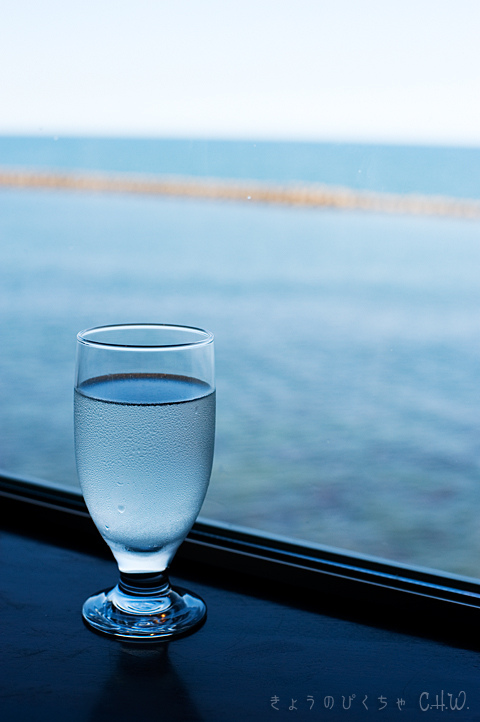glass of water: (67, 323, 226, 650)
